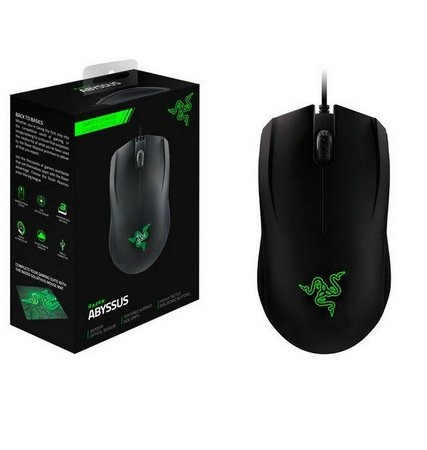mouse: (253, 105, 398, 358)
